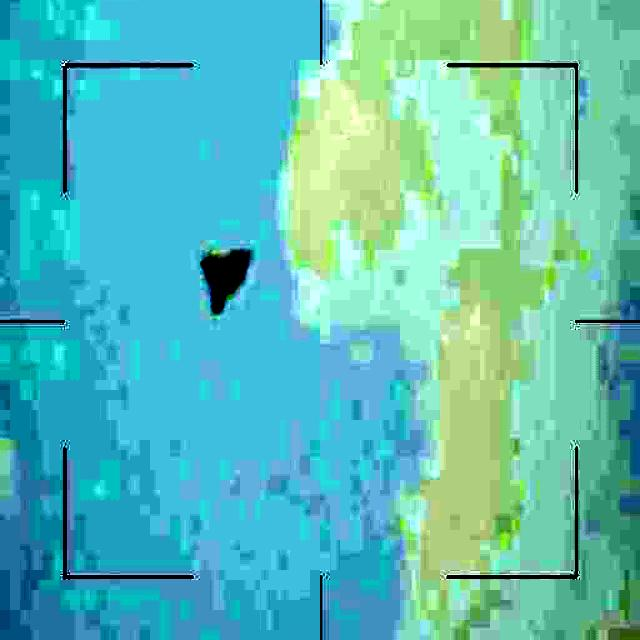bird: (200, 242, 249, 321)
